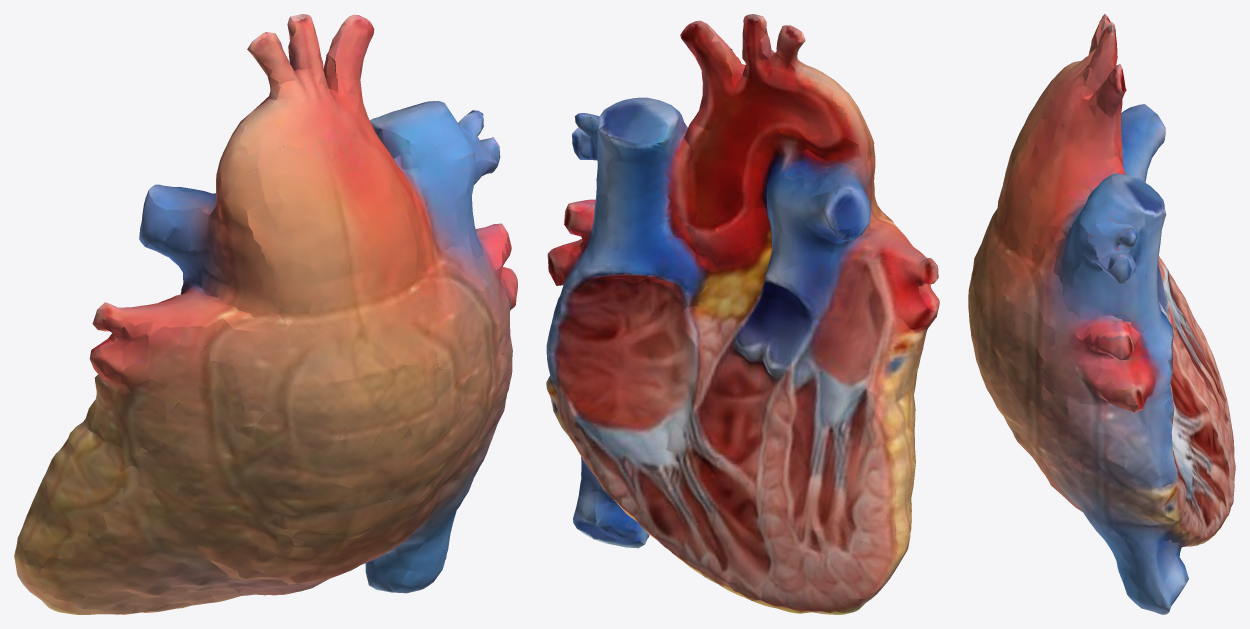
3 renders of one model, left to right at view 1: azimuth 30°, elevation 25°; view 2: azimuth 150°, elevation 25°; view 3: azimuth 270°, elevation 25°, orthographic. The views are drawn at different scales.
Visible parts, largest first — view 1: world; view 2: world; view 3: world.
Part boxes in pixels (x1,y1,x2,y2): world: [14, 14, 517, 614]; world: [546, 14, 939, 614]; world: [968, 14, 1235, 614].
Size of the model in its own units: 0.7128 by 0.9342 by 0.4295.
Materials: 1 (1 with a texture image).
